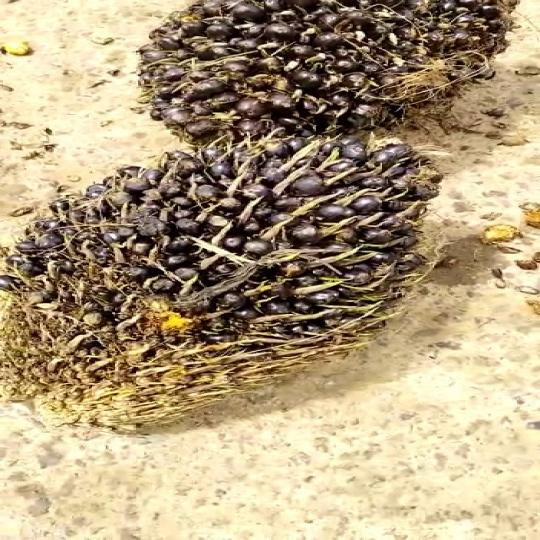mentah: (0, 140, 457, 430), (104, 0, 508, 147)
